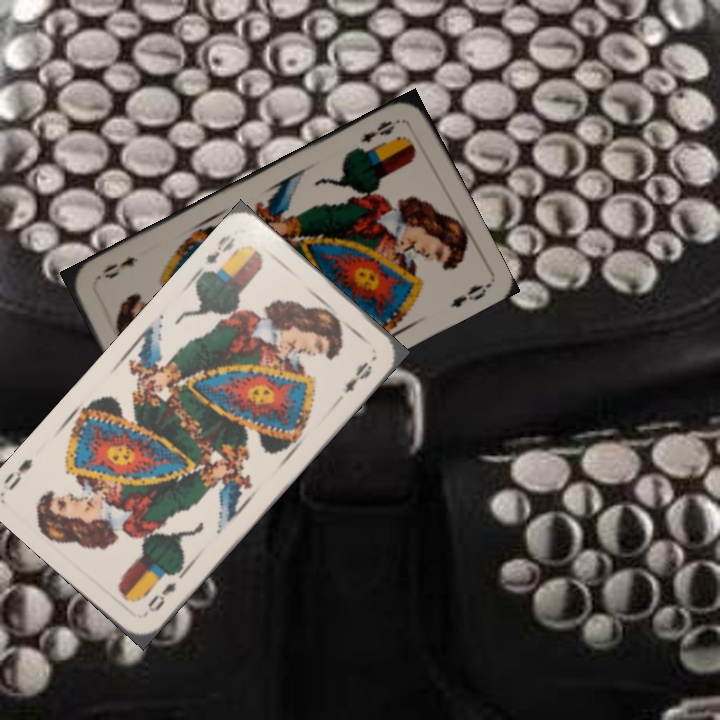EO: (194, 230, 241, 278), (143, 578, 179, 615), (357, 116, 398, 146)
